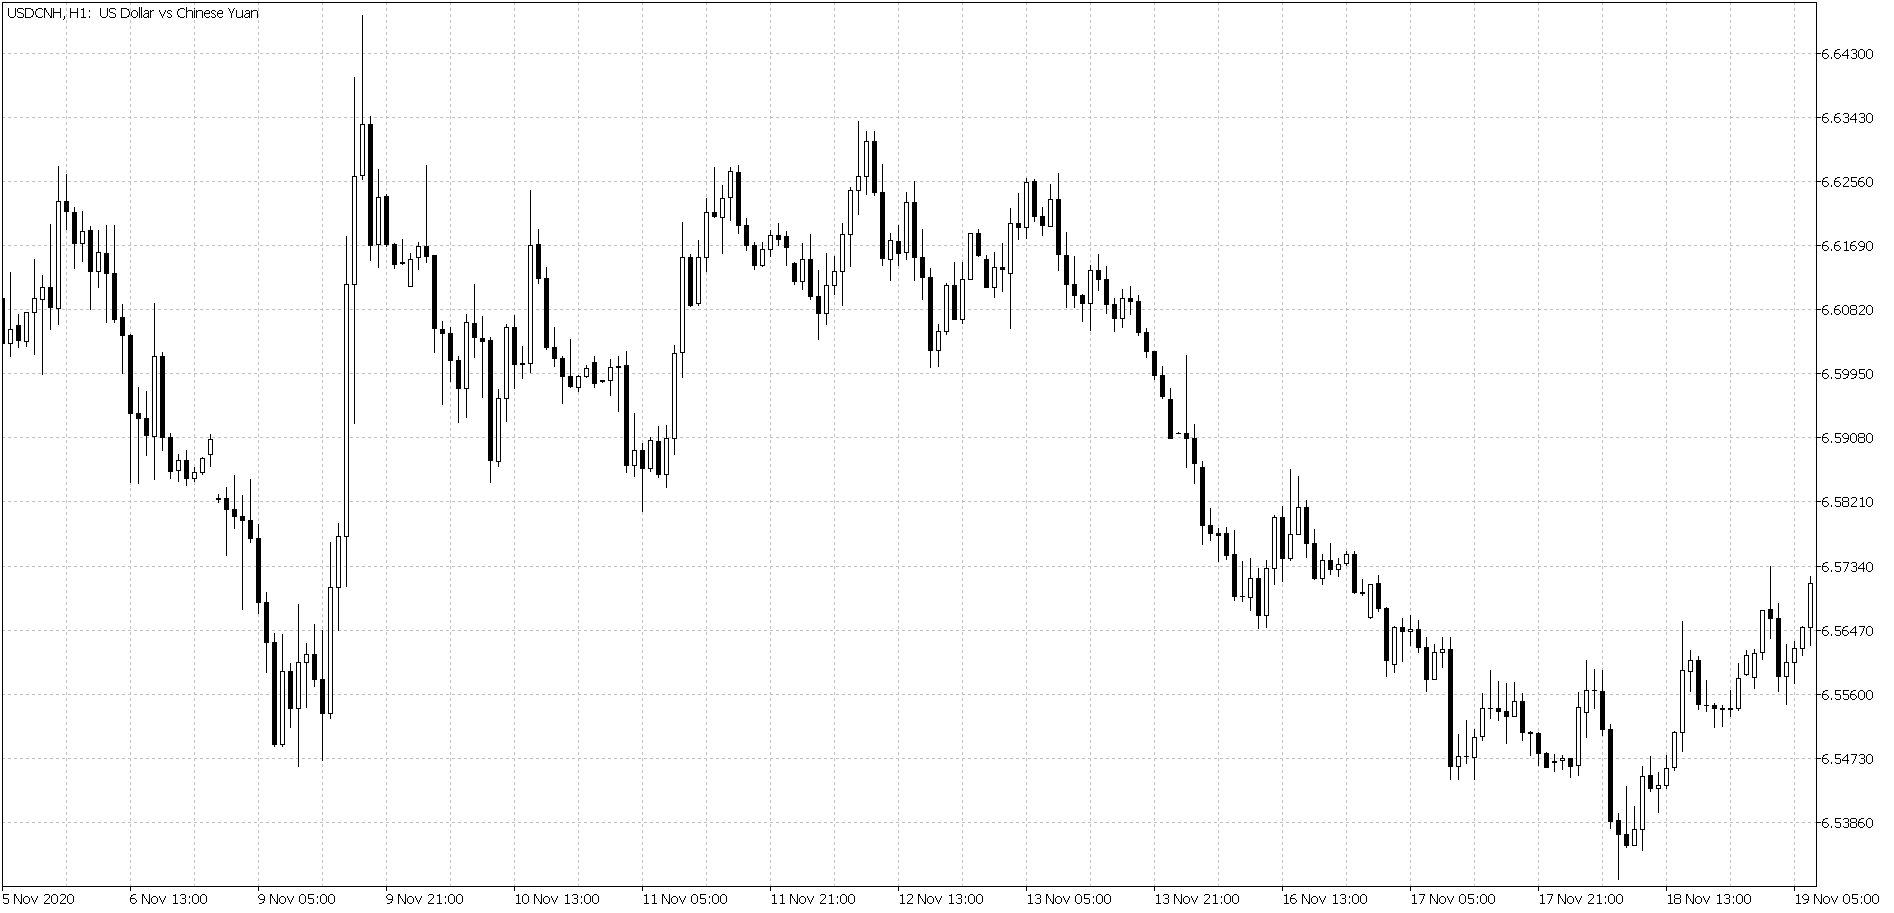bullishEngulfing: (318, 538, 334, 749), (1254, 559, 1270, 632)
headAndShoulders: (665, 114, 1122, 350)
